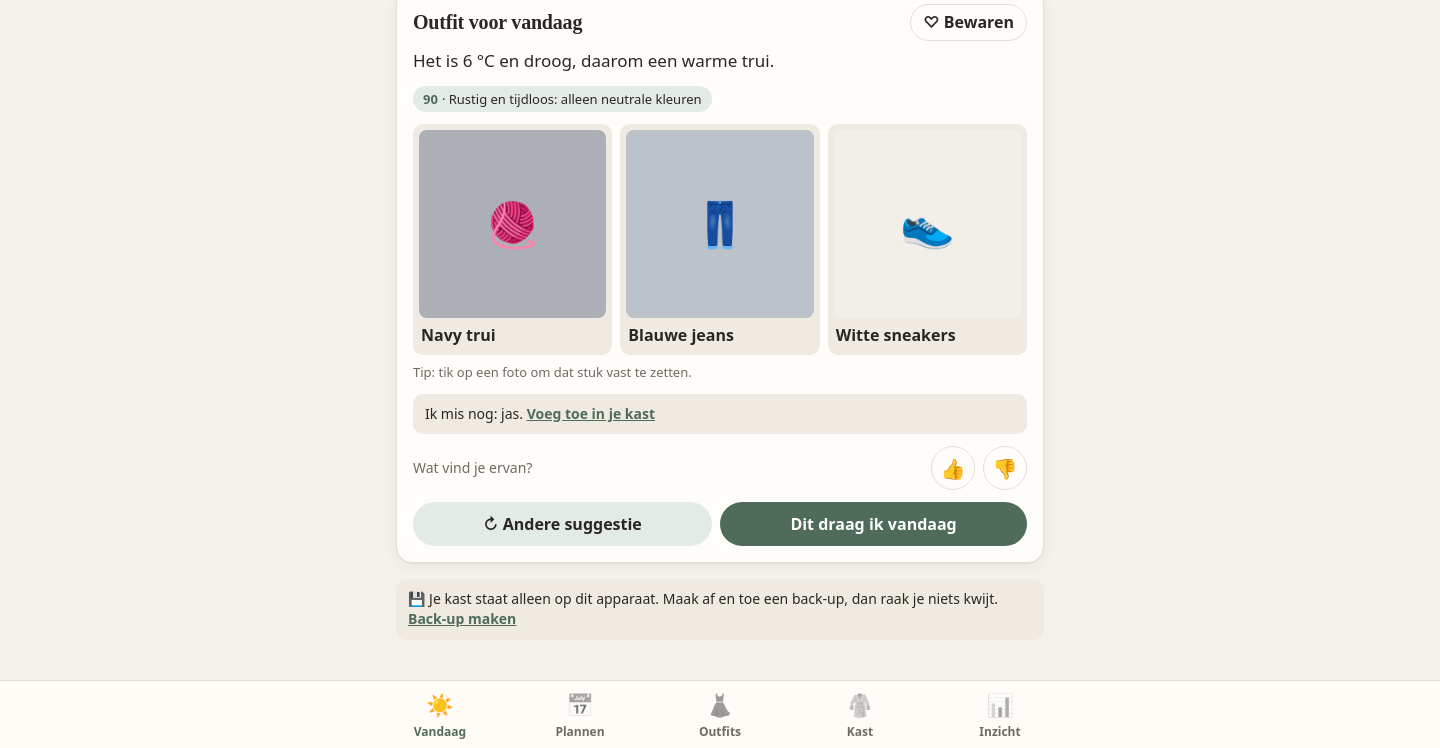
Test: Vandaag › de gelogde outfit blijft staan als je even naar een ander tabblad gaat
(page scrolled)
Expected: the heading "Outfit voor vandaag" is shown, [413,8,582,37]
Click the button "Dit draag ik vandaag" at (874, 524), box [720,502,1027,546]
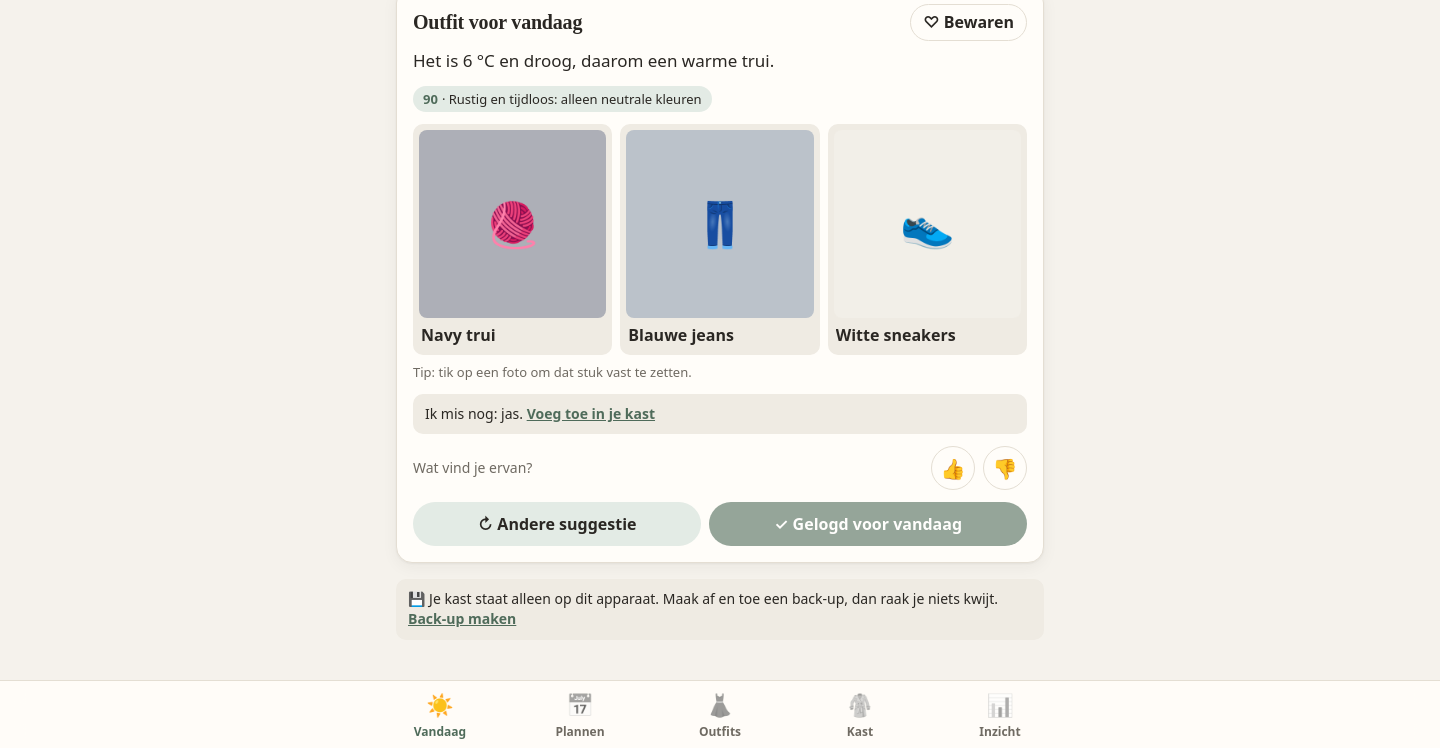
Click the button "🧥 Kast" at (860, 714), box [790,681,930,747]
(page scrolled)
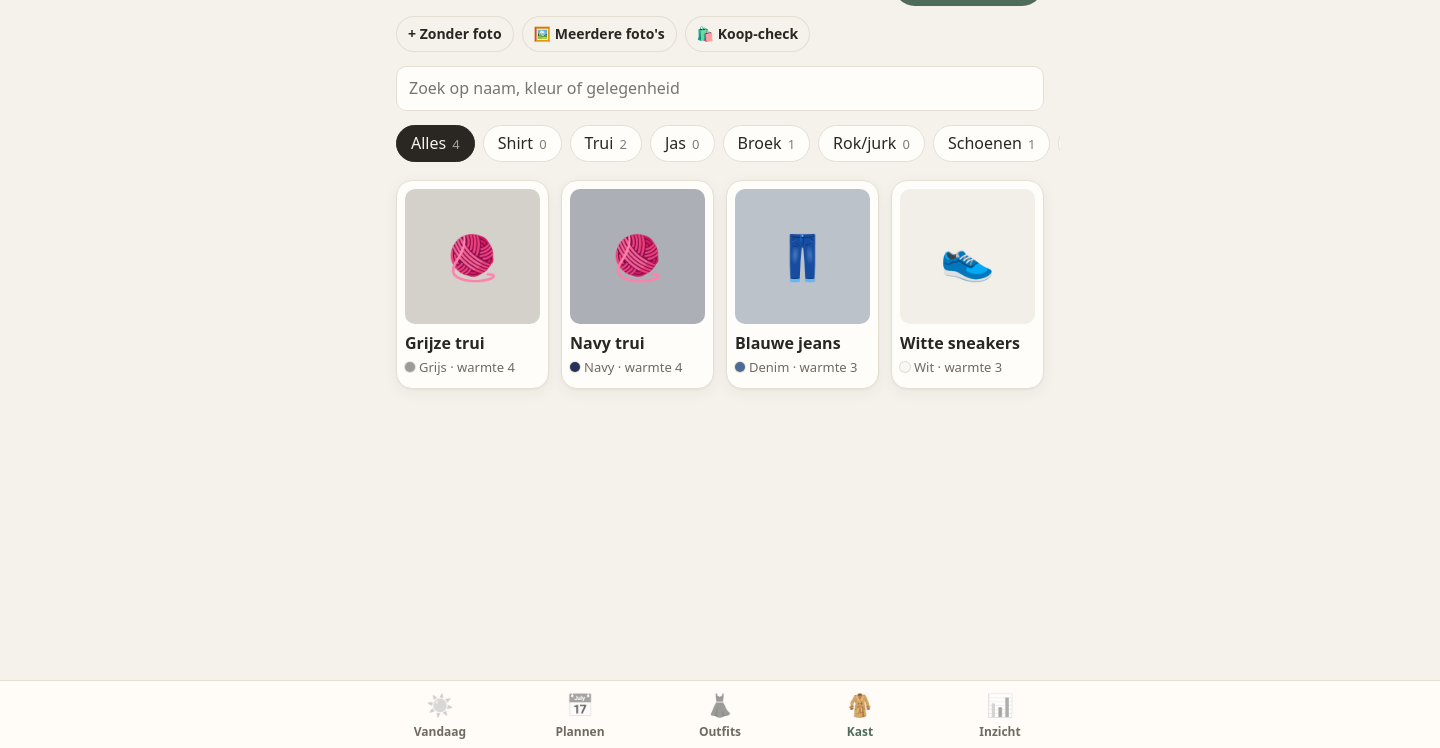
Click the button "☀️ Vandaag" at (440, 714), box [370,681,510,747]
(page scrolled)
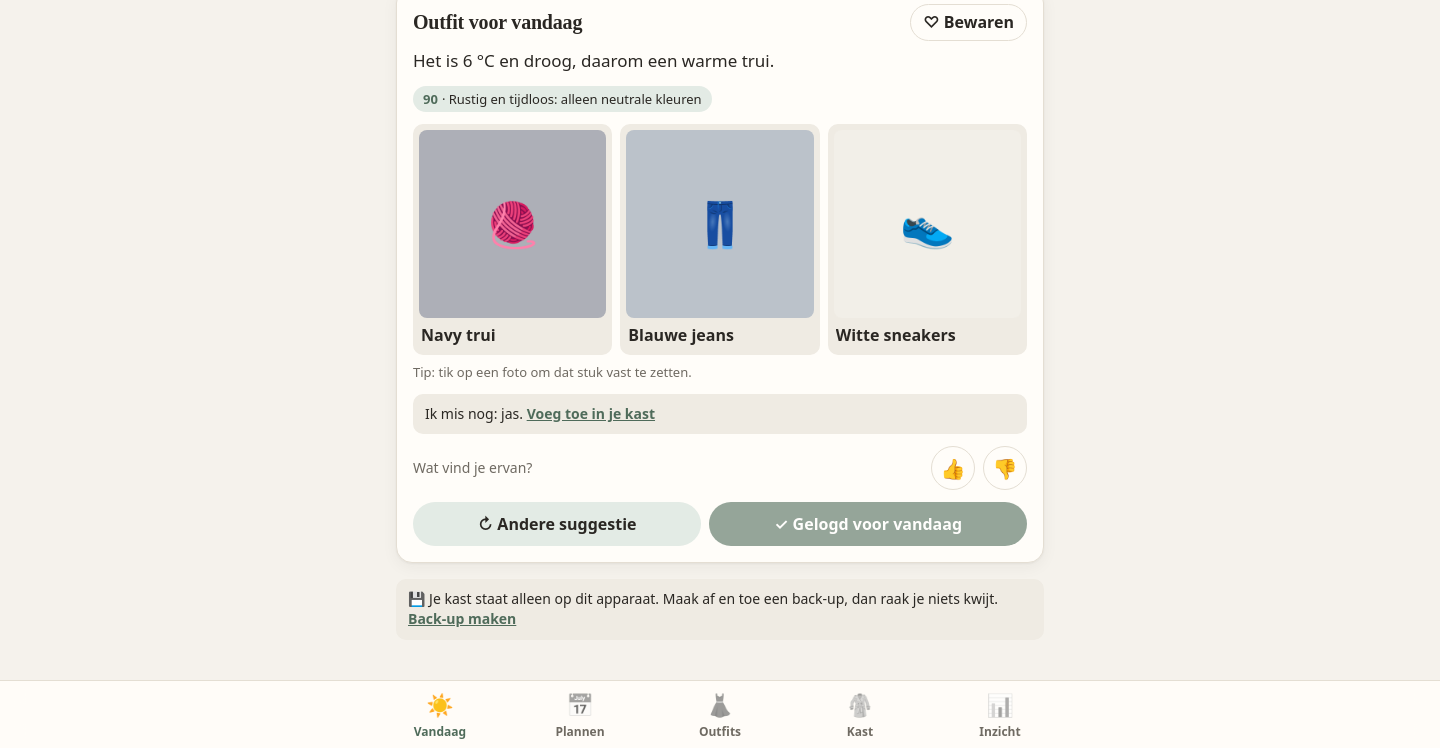
Expected: the button "✓ Gelogd voor vandaag" is shown, [709,502,1027,546]
